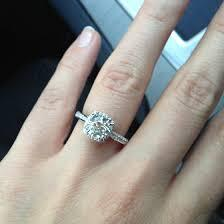Ring: (67, 98, 130, 156)
